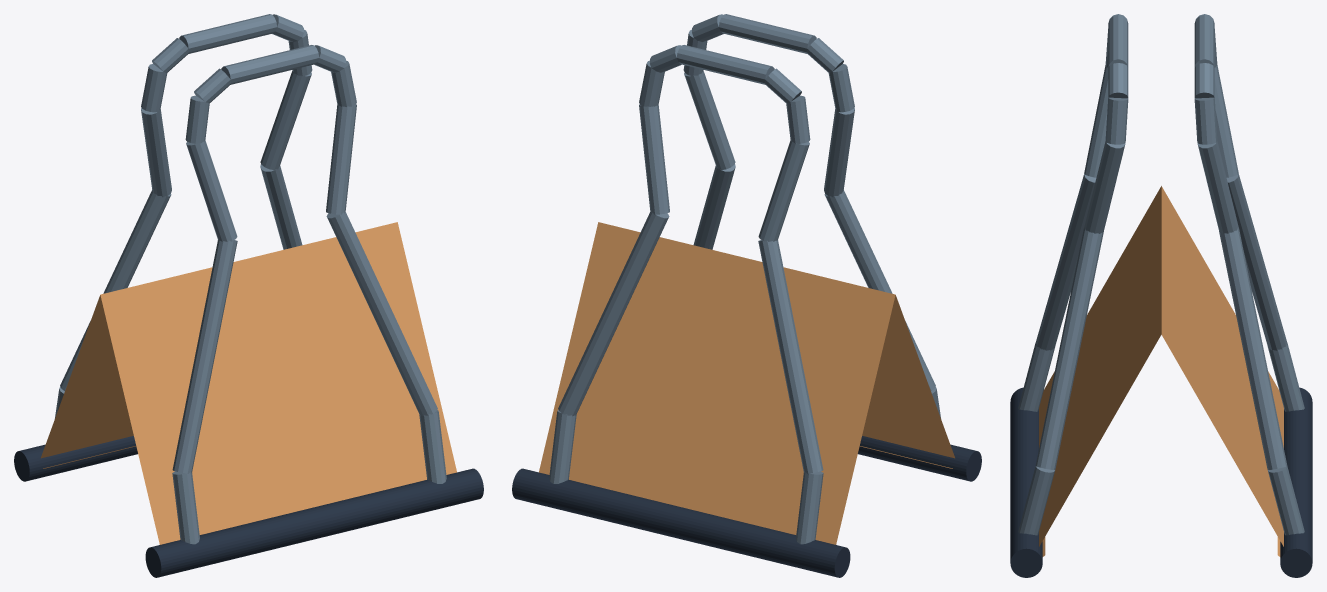
Rendered from binder.glb.
3 renders of one model, left to right at view 1: azimuth 30°, elevation 25°; view 2: azimuth 150°, elevation 25°; view 3: azimuth 270°, elevation 25°, orthographic. The views are drawn at different scales.
Parts seen in each view (by area): view 1: fold 0, front lip, fold 1, wire 11, wire 19, rear lip, wire -11, wire 18, wire 12, wire -18, wire -15, wire 15 (+9 smaller); view 2: fold 1, rear lip, fold 0, wire -11, wire -19, front lip, wire 11, wire -18, wire -12, wire 18, wire 15, wire -15 (+9 smaller); view 3: fold 0, fold 1, wire -19, wire 19, rear lip, front lip, wire -11, wire 11, wire -18, wire 18, wire -110, wire 110 (+10 smaller).
Boxes of the visible parts, bbox=[...] form: fold 0: bbox=[100, 222, 456, 544]; front lip: bbox=[145, 468, 483, 577]; fold 1: bbox=[41, 295, 133, 458]; wire 11: bbox=[172, 240, 237, 473]; wire 19: bbox=[326, 211, 437, 416]; rear lip: bbox=[14, 436, 137, 481]; wire -11: bbox=[60, 190, 171, 391]; wire 18: bbox=[326, 104, 356, 214]; wire 12: bbox=[186, 140, 237, 241]; wire -18: bbox=[260, 70, 311, 169]; wire -15: bbox=[179, 14, 276, 53]; wire 15: bbox=[221, 45, 319, 84]; fold 1: bbox=[539, 222, 895, 544]; rear lip: bbox=[512, 468, 850, 577]; fold 0: bbox=[862, 295, 954, 458]; wire -11: bbox=[758, 240, 823, 473]; wire -19: bbox=[558, 211, 669, 416]; front lip: bbox=[858, 436, 981, 481]; wire 11: bbox=[824, 190, 935, 391]; wire -18: bbox=[639, 104, 669, 214]; wire -12: bbox=[758, 140, 809, 241]; wire 18: bbox=[684, 70, 735, 169]; wire 15: bbox=[719, 14, 816, 53]; wire -15: bbox=[676, 45, 774, 84]; fold 0: bbox=[1039, 186, 1161, 546]; fold 1: bbox=[1161, 186, 1283, 546]; wire -19: bbox=[1219, 228, 1287, 469]; wire 19: bbox=[1035, 228, 1103, 469]; rear lip: bbox=[1280, 387, 1312, 577]; front lip: bbox=[1010, 387, 1042, 577]; wire -11: bbox=[1226, 174, 1287, 350]; wire 11: bbox=[1035, 174, 1096, 350]; wire -18: bbox=[1197, 141, 1238, 233]; wire 18: bbox=[1084, 141, 1125, 233]; wire -110: bbox=[1267, 466, 1304, 535]; wire 110: bbox=[1018, 466, 1055, 535].
Size of the model in its own units: 1.02 by 1.36 by 0.806.
